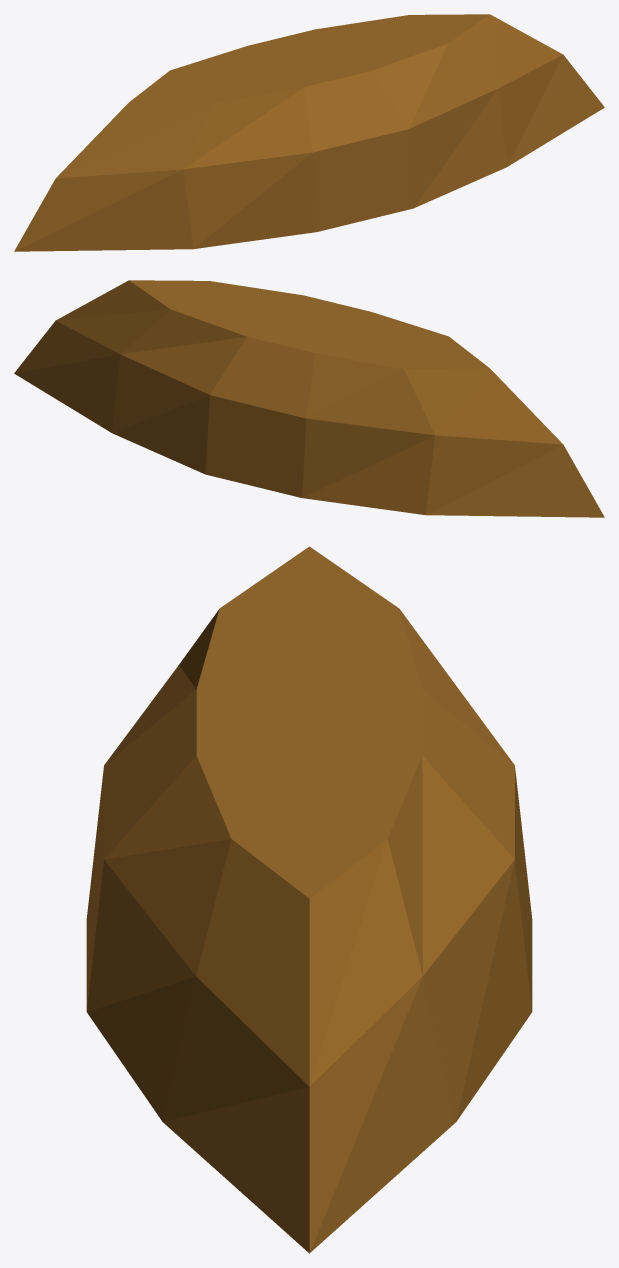
File: MV_Boot (1).fbx
3 views of the same model, one above another, from view 1: azimuth 30°, elevation 25°; view 2: azimuth 150°, elevation 25°; view 3: azimuth 270°, elevation 25° (orthographic). The views are drawn at different scales.
Visible parts, largest first — view 1: pCube4; view 2: pCube4; view 3: pCube4.
Boxes of the visible parts, x1=… form: pCube4: x1=14, y1=14, x2=604, y2=251; pCube4: x1=14, y1=280, x2=604, y2=517; pCube4: x1=86, y1=546, x2=532, y2=1253.
Bounding box in the file's own units: 16.62 × 3.26 × 5.42.
